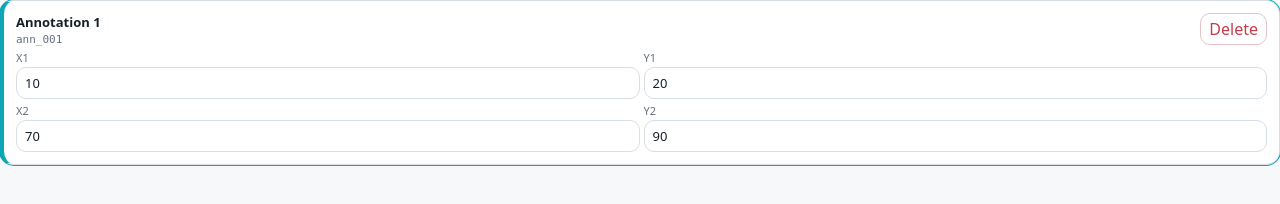
Test case: rejects X2 at or before X1 and restores the last legal coordinates
Replace the text in the field labelled "X2" with "10": [328, 136] box [16,120,640,152]
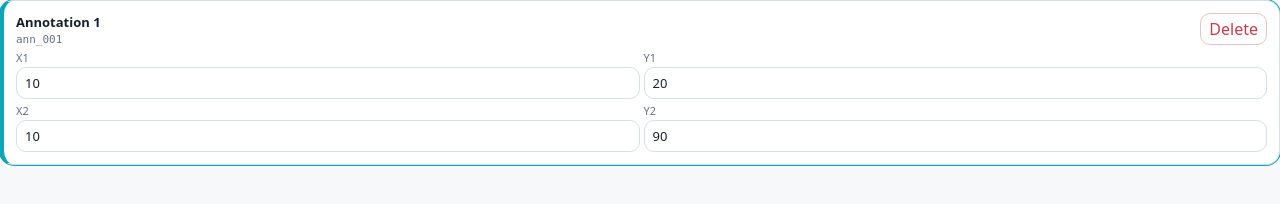
Leave the field labelled "X2", box [16,120,640,152]
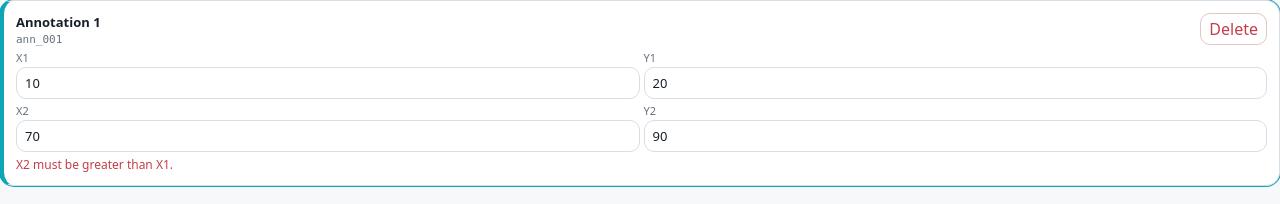
Expected: the message reads "X2 must be greater than X1.", [16,156,173,173]
Expected: the field labelled "X2" holds "70", [16,120,640,152]
